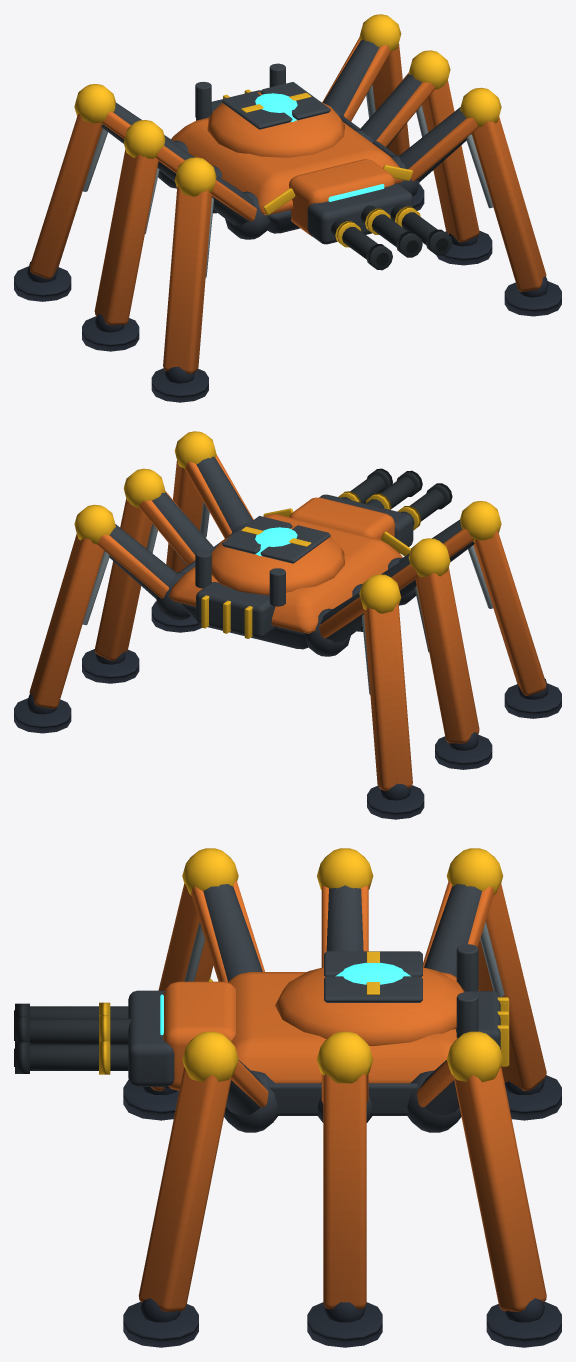
The model's file is walker.glb.
The picture shows the model from 3 angles, top to bottom: view 1: azimuth 30°, elevation 25°; view 2: azimuth 150°, elevation 25°; view 3: azimuth 270°, elevation 25°; orthographic projection. The views are drawn at different scales.
Visible parts, largest first — view 1: Belly hull, Hip actuator, Hip actuator.003, Weapon head, Hip actuator.001, Hip actuator.002, Hip actuator.004, Hip actuator.005, Vent plate, Vent plate.001; view 2: Belly hull, Hip actuator.005, Hip actuator.002, Hip actuator.001, Hip actuator.004, Hip actuator, Weapon head, Hip actuator.003, Vent plate, Vent plate.001; view 3: Belly hull, Hip actuator.005, Hip actuator.003, Weapon head, Hip actuator.004, Hip actuator.002, Hip actuator, Hip actuator.001, Vent plate.001, Vent plate.
Part boxes in pixels (x1,y1,x2,y2): Belly hull: (171,63,412,233); Hip actuator: (151,157,270,402); Hip actuator.003: (390,87,561,316); Weapon head: (289,159,452,270); Hip actuator.001: (82,120,221,351); Hip actuator.002: (14,84,187,301); Hip actuator.004: (354,50,492,265); Hip actuator.005: (322,14,424,210); Vent plate: (222,91,292,129); Vent plate.001: (260,82,330,120); Belly hull: (168,508,410,649); Hip actuator.005: (14,504,190,733); Hip actuator.002: (305,574,424,819); Hip actuator.001: (352,538,492,769); Hip actuator.004: (82,468,215,683); Hip actuator: (388,501,561,718); Weapon head: (289,468,452,553); Hip actuator.003: (151,431,253,632); Vent plate: (260,525,330,563); Vent plate.001: (222,516,292,554); Belly hull: (207,944,509,1115); Hip actuator.005: (407,1031,561,1347); Hip actuator.003: (123,1031,278,1347); Weapon head: (14,981,235,1090); Hip actuator.004: (307,1031,382,1347); Hip actuator.002: (423,848,561,1120); Hip actuator: (123,848,264,1120); Hip actuator.001: (317,848,373,967); Vent plate.001: (324,976,422,1002); Vent plate: (324,951,422,976).
Bounding box in the file's own units: 6.5 × 3.24 × 5.81.
Materials: 7 (5 with a texture image).
